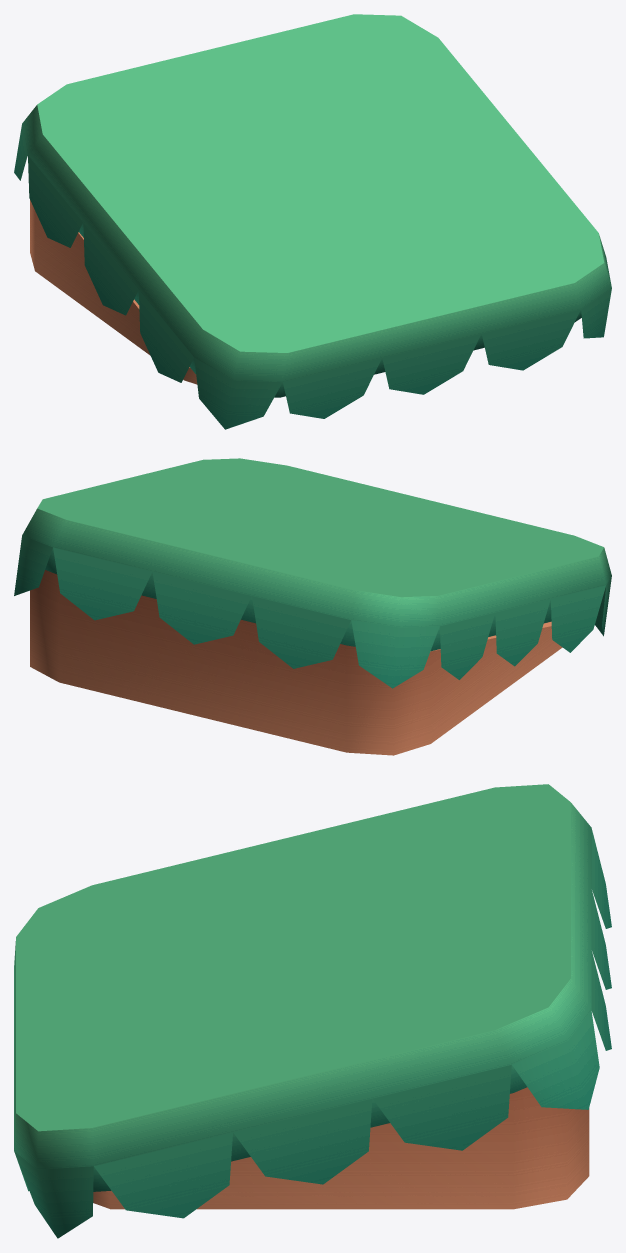
The model's file is block-grass-overhang-large-slope.glb.
3 renders of one model, top to bottom at view 1: azimuth 30°, elevation 25°; view 2: azimuth 150°, elevation 25°; view 3: azimuth 270°, elevation 25°, orthographic. The views are drawn at different scales.
Parts seen in each view (by area): view 1: block-grass-overhang-large-slope; view 2: block-grass-overhang-large-slope; view 3: block-grass-overhang-large-slope.
Part boxes in pixels (x1,y1,x2,y2): block-grass-overhang-large-slope: (14,14,611,429); block-grass-overhang-large-slope: (14,458,611,755); block-grass-overhang-large-slope: (14,784,611,1238).
Size of the model in its own units: 2.08 by 0.9144 by 2.08.
Materials: 1 (1 with a texture image).
